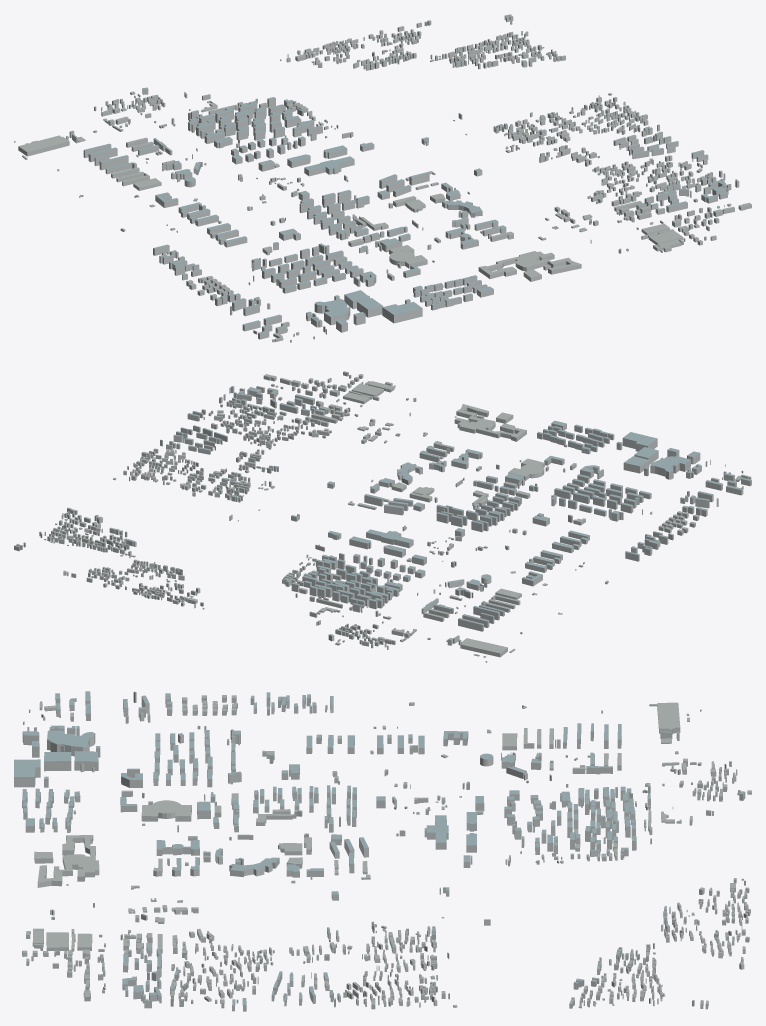
The picture shows the model from 3 angles, top to bottom: view 1: azimuth 30°, elevation 25°; view 2: azimuth 150°, elevation 25°; view 3: azimuth 270°, elevation 25°; orthographic projection. The views are drawn at different scales.
Parts seen in each view (by area): view 1: 上海全域建筑分块 · mapped building neighborhood; view 2: 上海全域建筑分块 · mapped building neighborhood; view 3: 上海全域建筑分块 · mapped building neighborhood.
Boxes of the visible parts, bbox=[...] form: 上海全域建筑分块 · mapped building neighborhood: bbox=[14, 14, 751, 342]; 上海全域建筑分块 · mapped building neighborhood: bbox=[14, 371, 751, 662]; 上海全域建筑分块 · mapped building neighborhood: bbox=[14, 691, 751, 1011].
Size of the model in its own units: 2137 by 35.42 by 2128.
